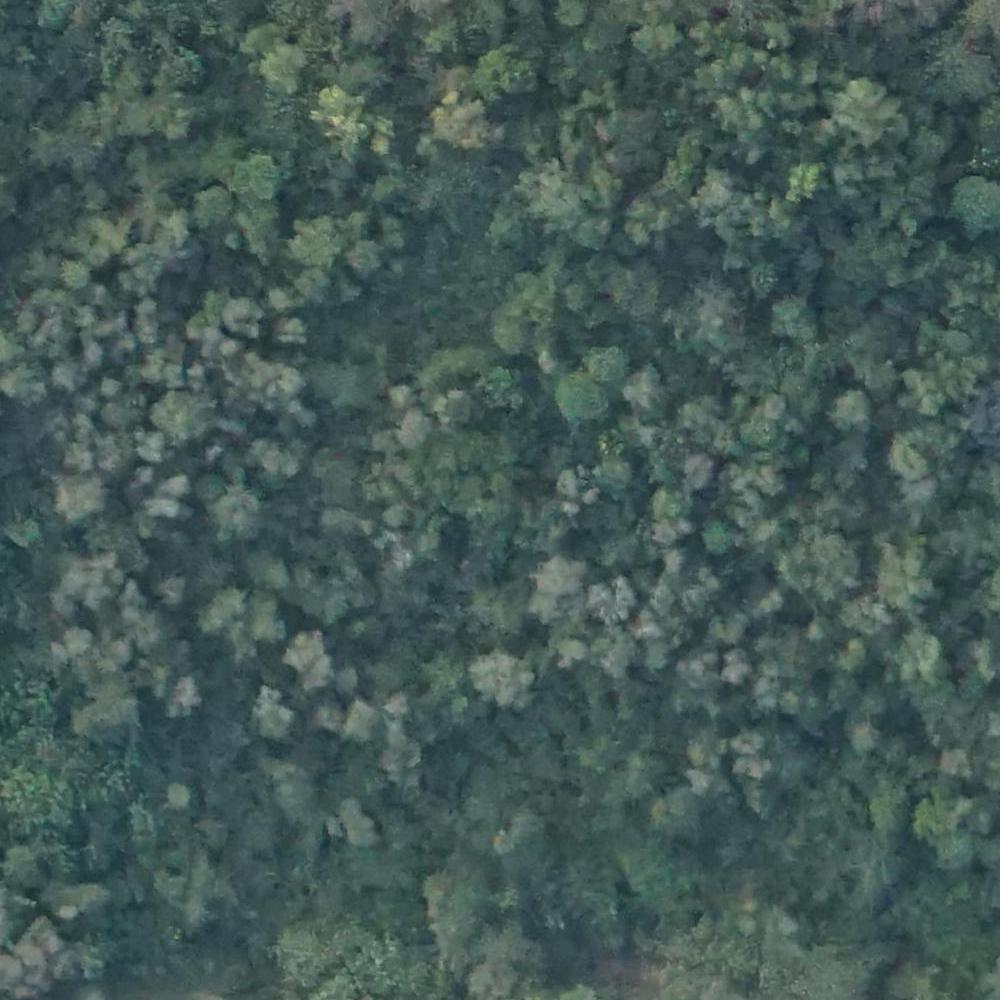tree: (785, 531, 854, 602), (208, 591, 266, 652), (649, 790, 710, 845), (244, 690, 299, 751), (430, 94, 488, 151), (65, 560, 118, 618), (473, 653, 528, 708), (955, 173, 1000, 233), (211, 491, 258, 548), (840, 82, 891, 134), (630, 15, 683, 65), (716, 89, 765, 143), (300, 213, 348, 268), (125, 237, 173, 292), (893, 430, 937, 488), (900, 631, 948, 683), (155, 395, 208, 442), (58, 473, 105, 525), (589, 634, 639, 682), (253, 437, 306, 481), (563, 372, 609, 422), (335, 792, 382, 839), (481, 369, 527, 417), (478, 50, 527, 95), (283, 634, 332, 677), (771, 295, 813, 345), (316, 79, 356, 131), (140, 479, 189, 521), (495, 297, 534, 349), (534, 559, 580, 601), (265, 44, 305, 92), (787, 159, 825, 208), (158, 675, 201, 718), (845, 727, 891, 767), (590, 574, 631, 618), (191, 186, 231, 231), (226, 294, 265, 337), (438, 394, 480, 433), (339, 701, 379, 740), (88, 206, 125, 246), (628, 366, 664, 407), (56, 250, 92, 291), (838, 643, 873, 684), (351, 238, 386, 278), (836, 386, 867, 431), (847, 596, 888, 630), (714, 610, 745, 652), (239, 156, 275, 192), (586, 338, 619, 376), (705, 523, 740, 557), (678, 454, 710, 490), (159, 784, 195, 815), (399, 406, 424, 445), (237, 25, 267, 56), (732, 725, 760, 755), (280, 318, 312, 344), (555, 466, 580, 496), (270, 288, 293, 311), (738, 760, 762, 781)
